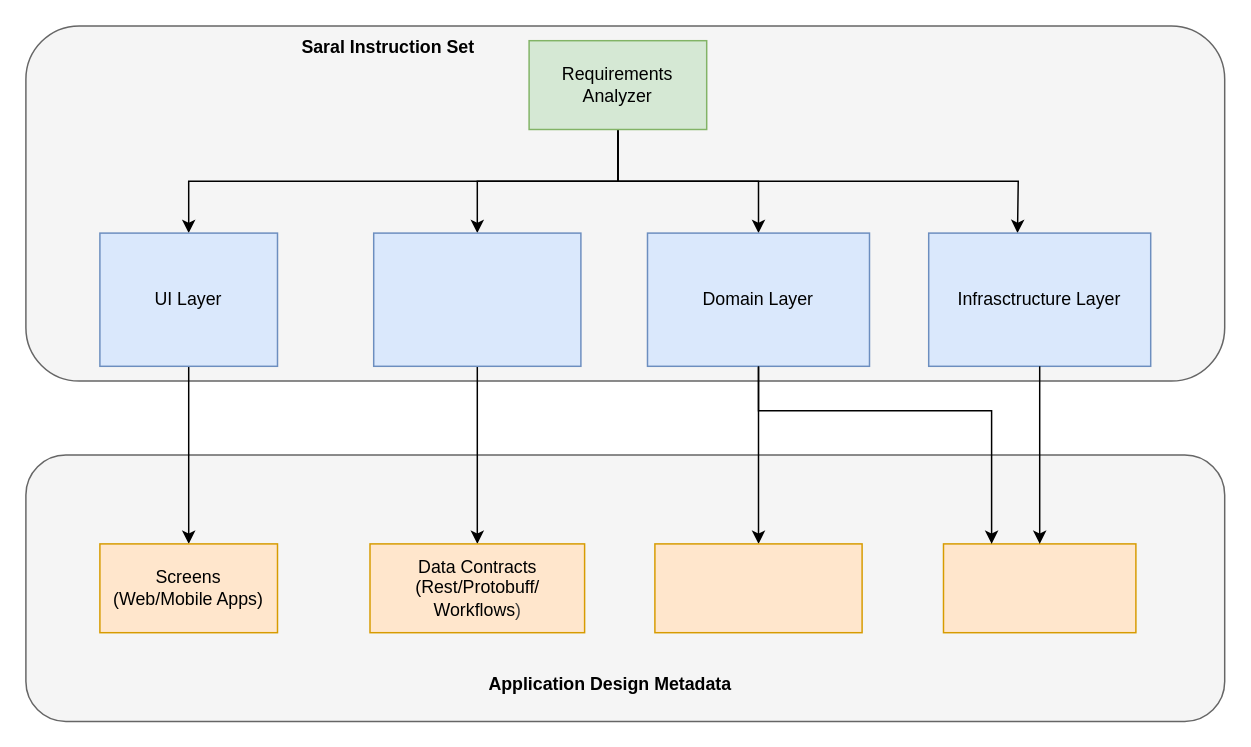
Some shapes in this 1251 by 747 pixel diagram are drawn without their labels. Here are the shapes that lost their labels. From the top down, the box of each, then its label:
(372, 232, 581, 366): Application Layer
(653, 542, 862, 633): Model (DTOs/Messages/Events)
(942, 542, 1136, 633): Database Schema (As per database type)
